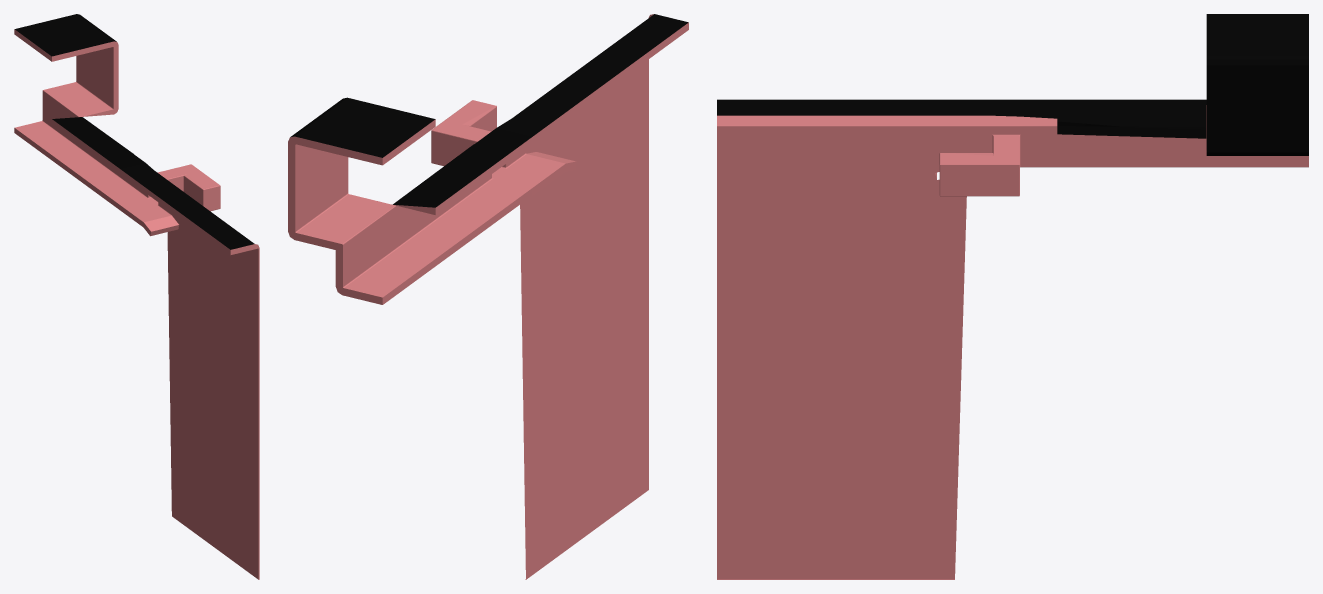
The model's file is FinDuJeu_mesh.fbx.
3 views of the same model, side by side, from view 1: azimuth 30°, elevation 25°; view 2: azimuth 150°, elevation 25°; view 3: azimuth 270°, elevation 25° (orthographic). The views are drawn at different scales.
Parts seen in each view (by area): view 1: Cube.020; view 2: Cube.020; view 3: Cube.020.
Boxes of the visible parts, x1=… form: Cube.020: x1=14, y1=14, x2=259, y2=579; Cube.020: x1=288, y1=14, x2=688, y2=579; Cube.020: x1=717, y1=14, x2=1308, y2=579.
Size of the model in its own units: 940 by 5019 by 4924.
